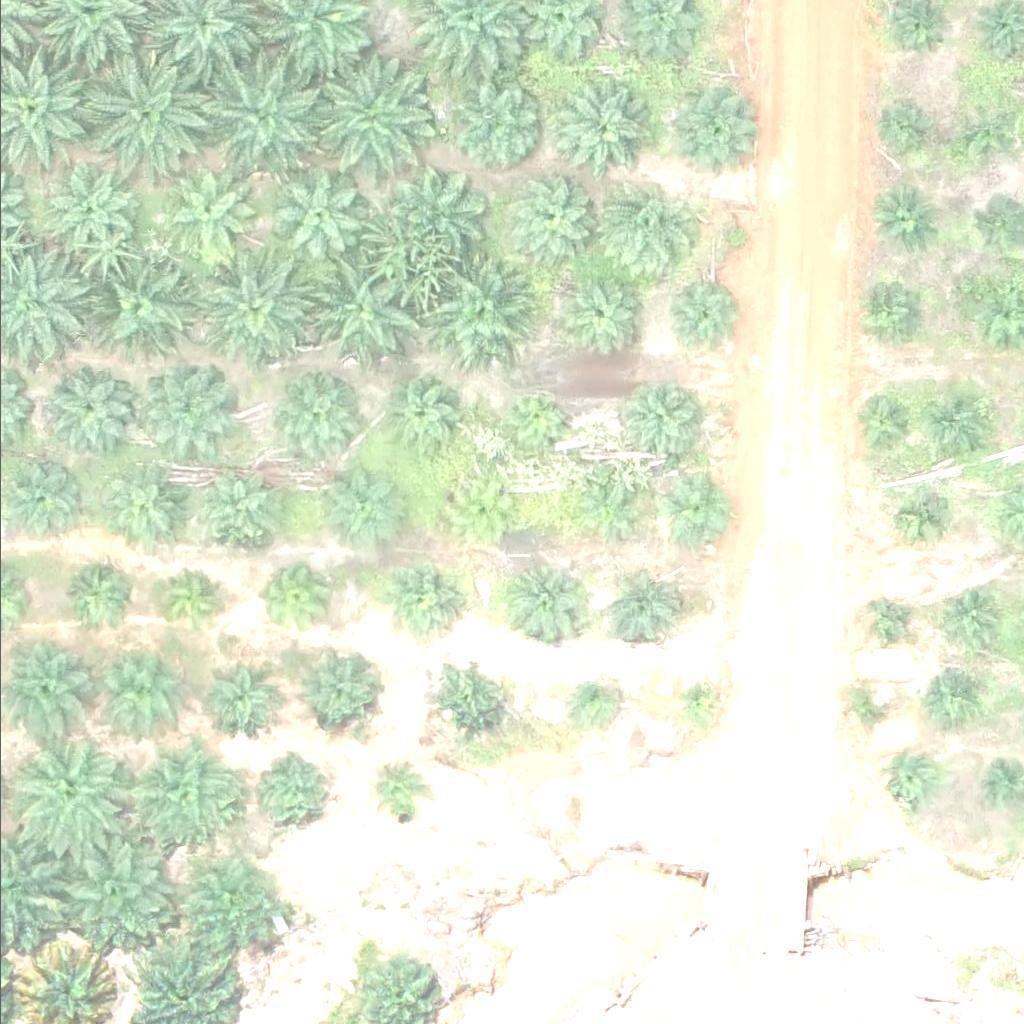Kelapa_Sawit: (10, 730, 136, 855), (194, 60, 320, 185), (82, 52, 208, 177), (300, 56, 425, 181), (46, 822, 171, 947), (191, 255, 304, 368), (174, 847, 288, 959), (123, 737, 236, 849), (304, 264, 405, 364), (92, 255, 193, 355), (80, 636, 180, 736), (428, 258, 528, 358), (592, 180, 692, 280), (559, 75, 659, 175), (287, 650, 375, 738), (94, 462, 182, 550), (137, 368, 225, 456), (48, 365, 136, 453), (270, 175, 358, 263), (454, 81, 542, 169), (670, 89, 758, 177), (267, 374, 356, 461), (503, 178, 592, 265), (190, 654, 278, 741), (2, 645, 90, 732), (186, 461, 274, 548), (49, 162, 137, 249), (164, 167, 252, 254), (397, 166, 485, 253), (615, 377, 703, 464), (558, 272, 646, 359), (605, 567, 681, 642), (660, 277, 736, 352), (424, 658, 500, 733), (60, 556, 136, 631), (148, 562, 224, 637), (261, 760, 337, 835), (508, 567, 584, 642), (382, 375, 457, 450), (318, 472, 393, 547), (391, 559, 466, 634), (258, 565, 333, 640), (871, 185, 934, 248), (866, 279, 929, 342), (849, 391, 912, 454), (668, 480, 731, 543), (922, 671, 985, 734), (937, 585, 1000, 648), (446, 476, 509, 539), (927, 395, 990, 457), (953, 107, 1016, 169), (572, 486, 635, 548), (887, 486, 950, 548), (365, 765, 428, 827), (872, 102, 934, 164), (507, 385, 569, 447), (864, 598, 915, 648), (843, 684, 894, 734), (878, 755, 928, 805), (670, 677, 720, 727), (563, 673, 613, 723)
